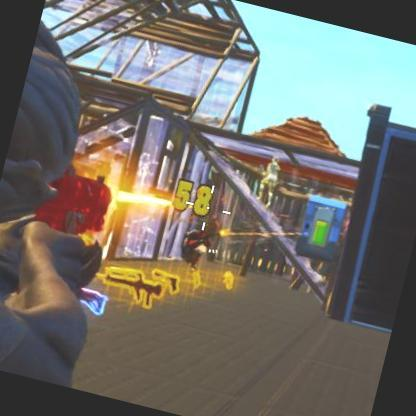person: (180, 213, 217, 265), (256, 154, 284, 208)
